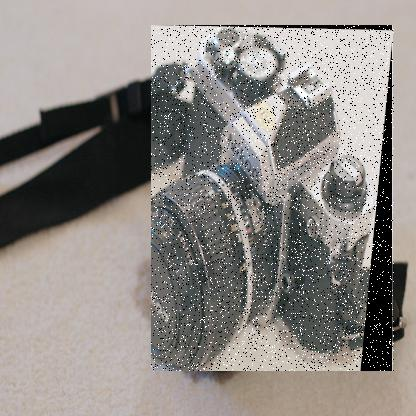Camera: (153, 26, 397, 373)
